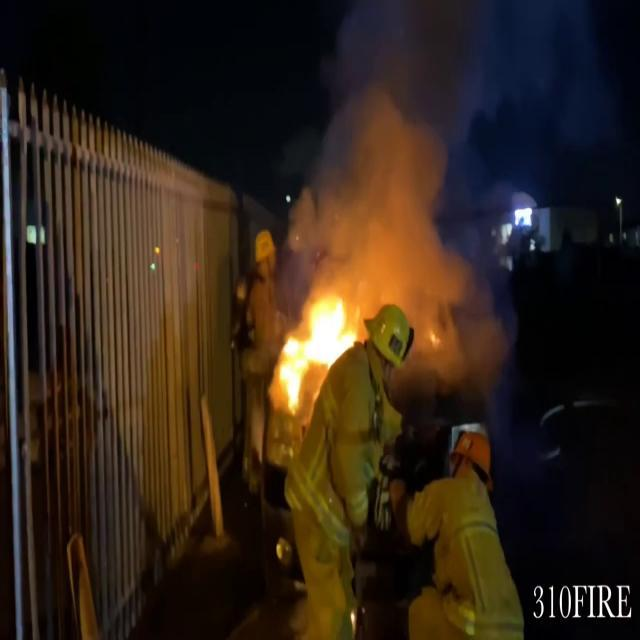Fire: (266, 280, 364, 410)
Smoke: (290, 0, 519, 309)
